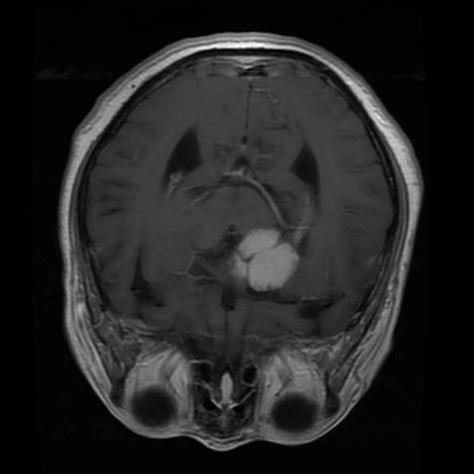Tumour-Meningioma: (221, 206, 309, 316)
